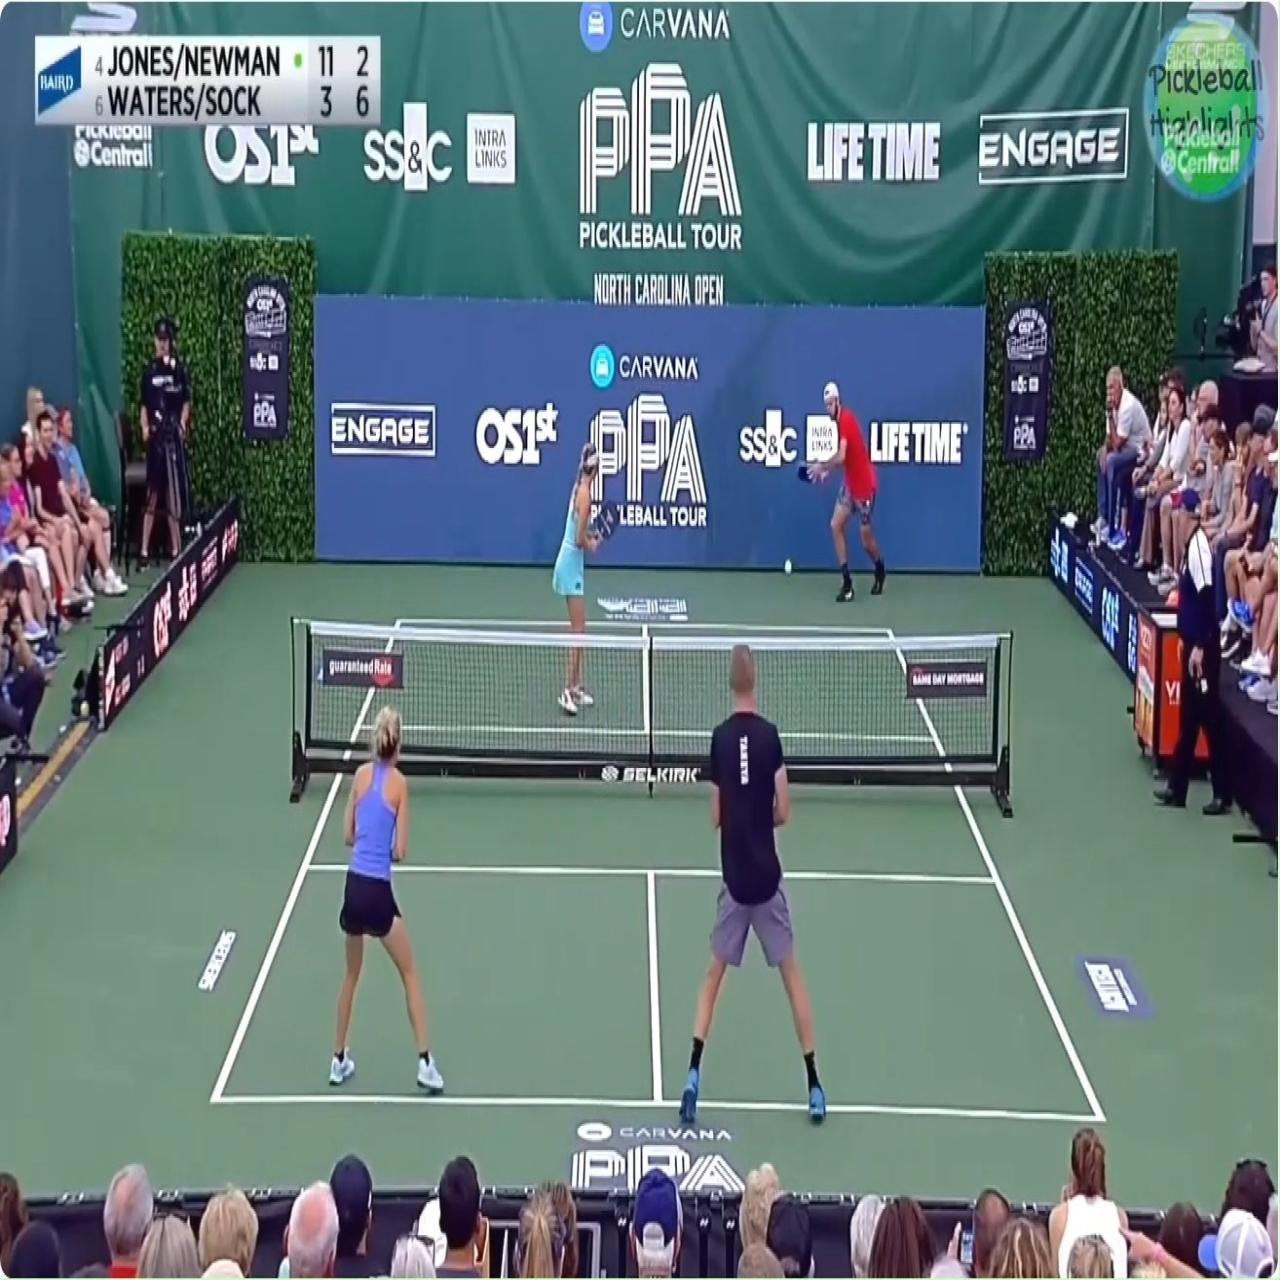pickleball: (783, 559, 792, 572)
